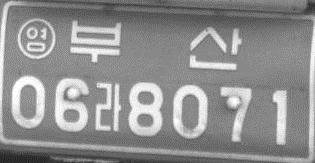0: (171, 81, 208, 141), (10, 75, 45, 130)
1: (260, 88, 297, 145)
6: (54, 77, 89, 133)
7: (219, 85, 253, 142)
8: (127, 82, 163, 137)
라: (94, 81, 122, 134)
부산_D: (69, 19, 242, 71)
영: (17, 17, 55, 60)
